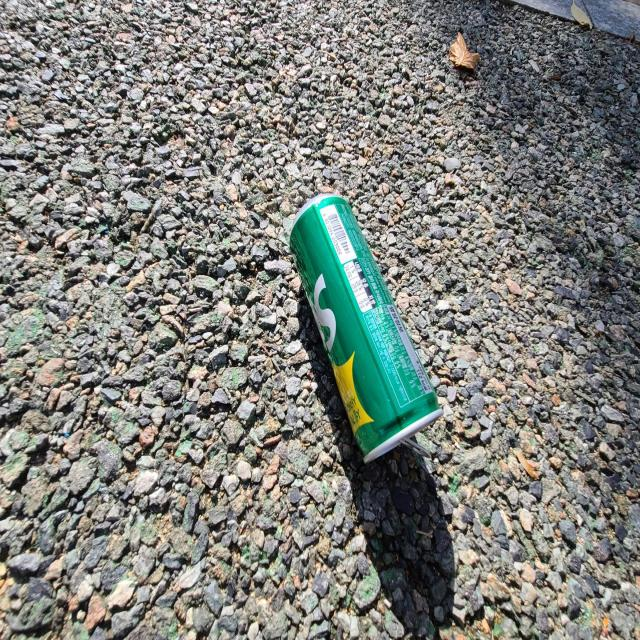can: (290, 193, 443, 463)
